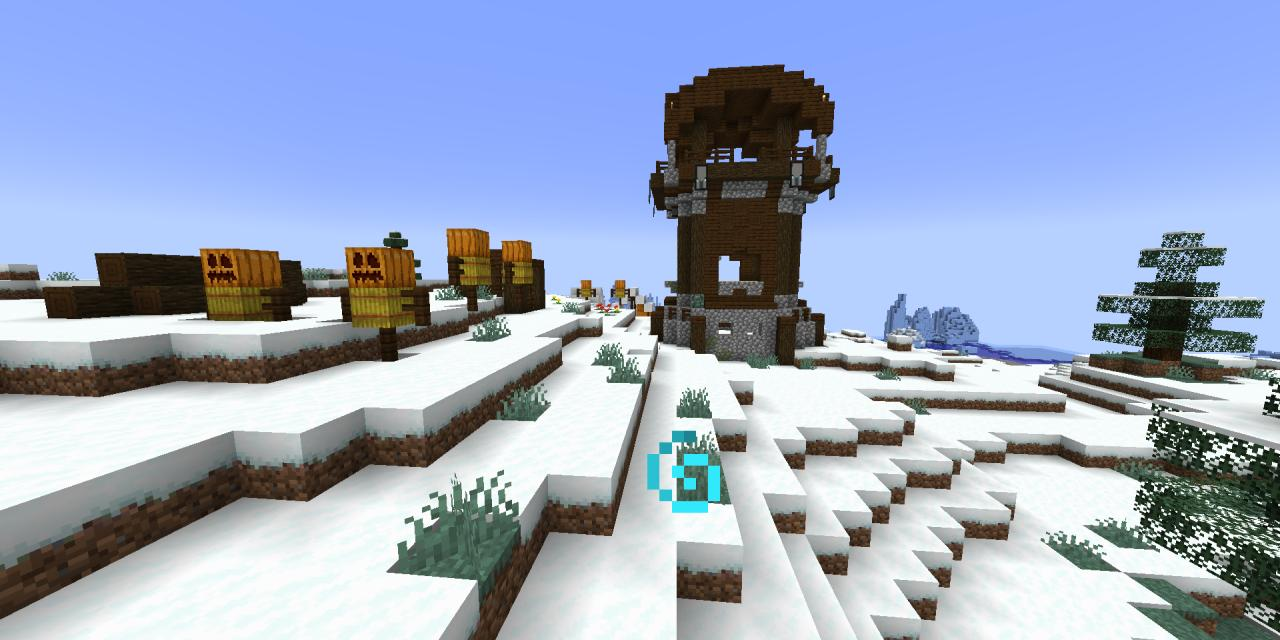pillager outpost: (633, 50, 847, 371)
